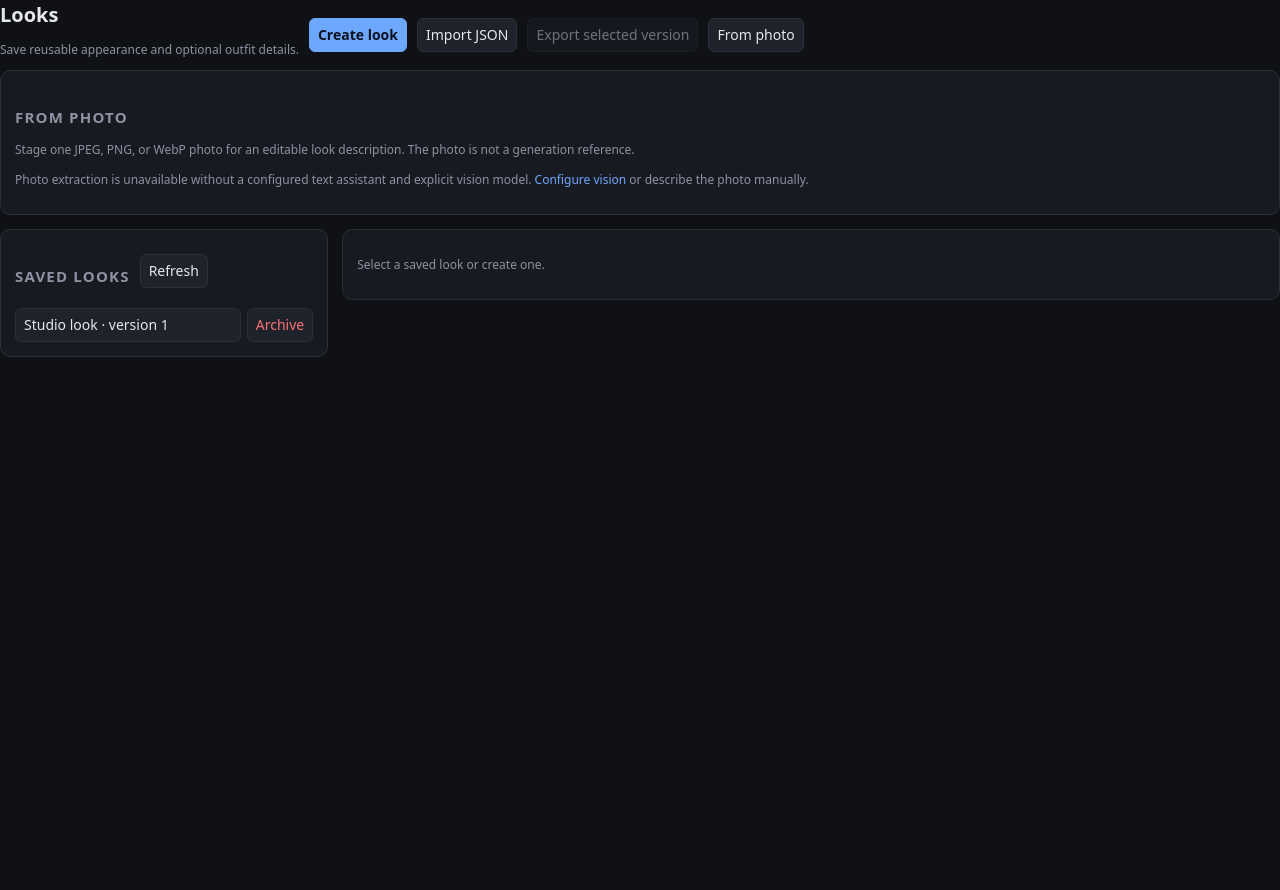
it: Looks manual editor › archives the selected look and ignores a stale list response
Click the button "Studio look · version 1" at (128, 325), box 15,308 -> 241,342
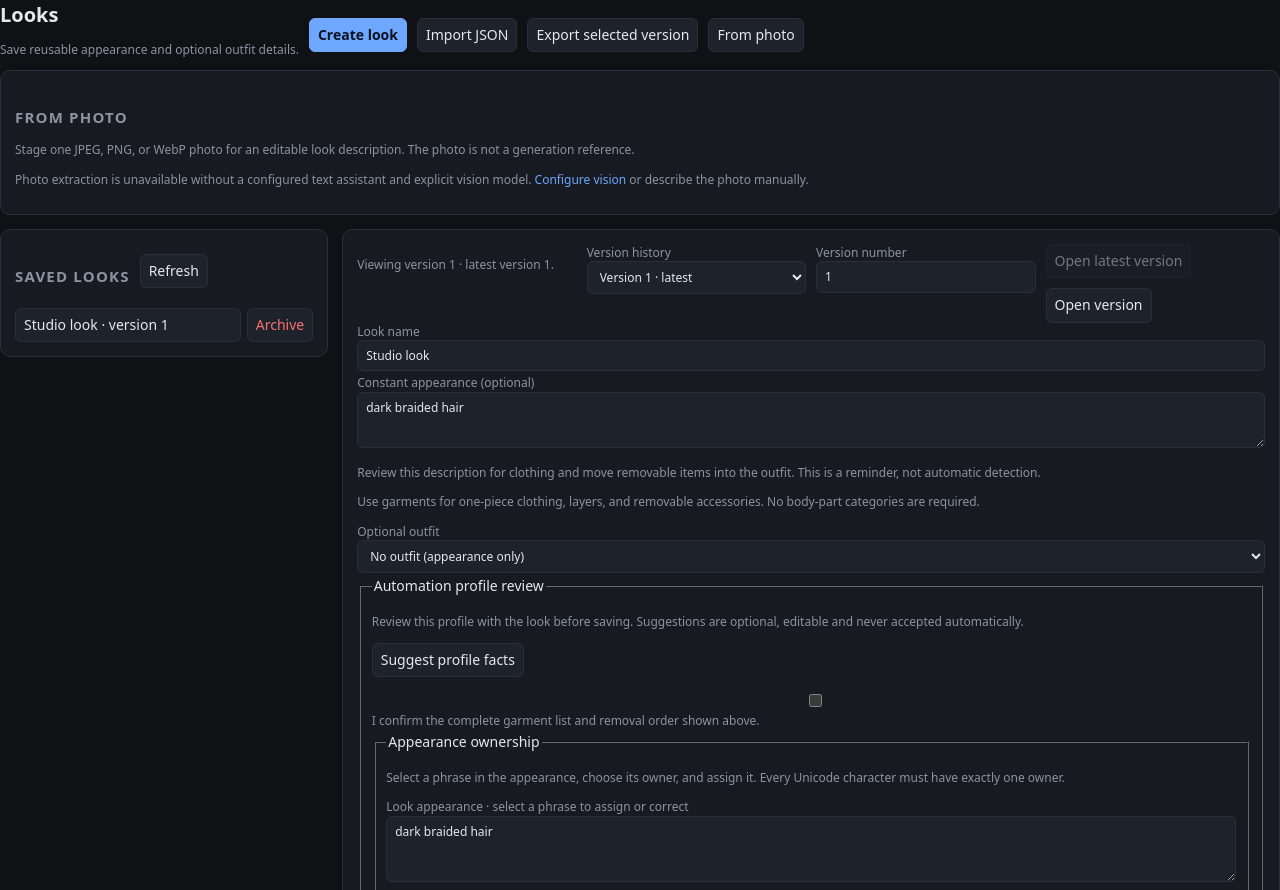
Click the button "Refresh" at (174, 271), box 140,254 -> 208,288
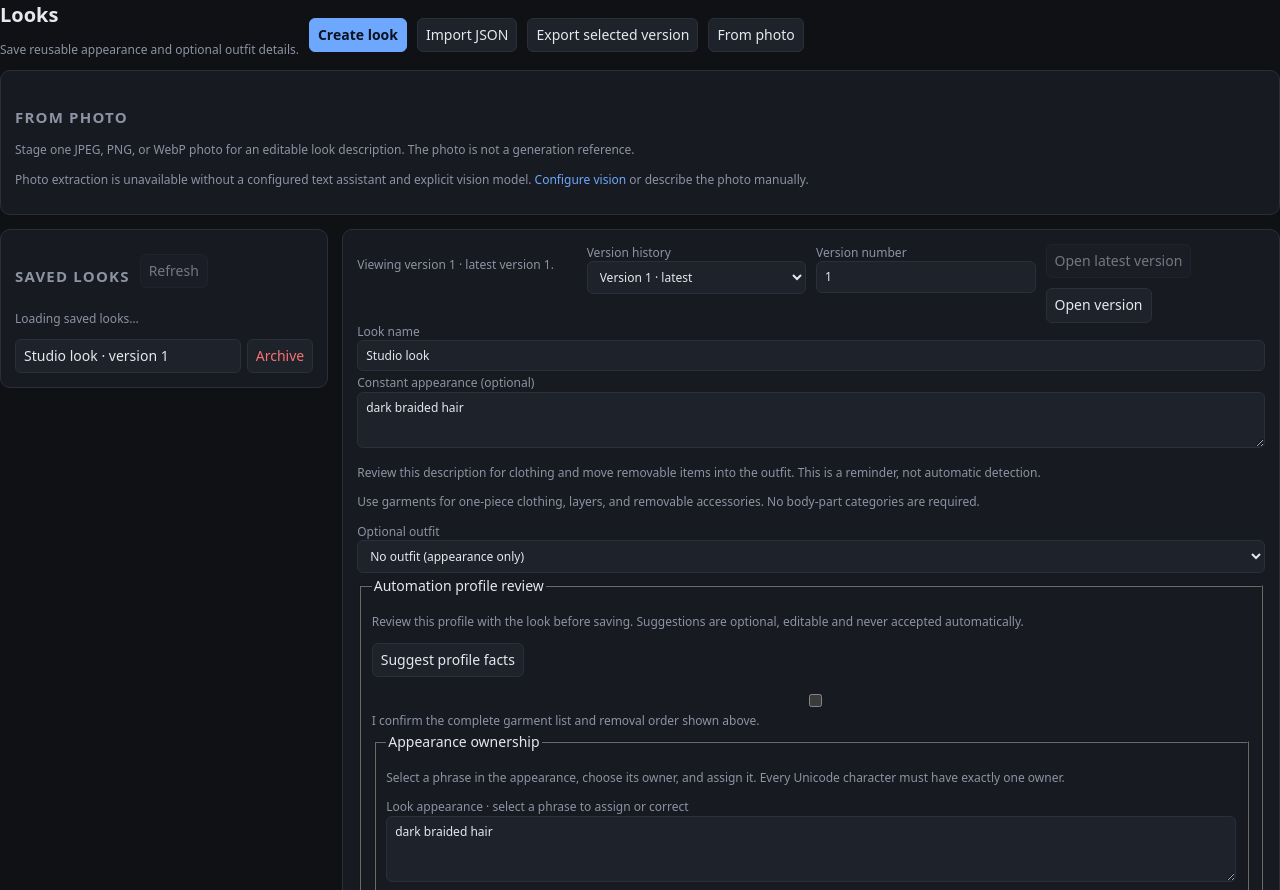
Click the button "Archive" at (280, 356), box 247,339 -> 313,373
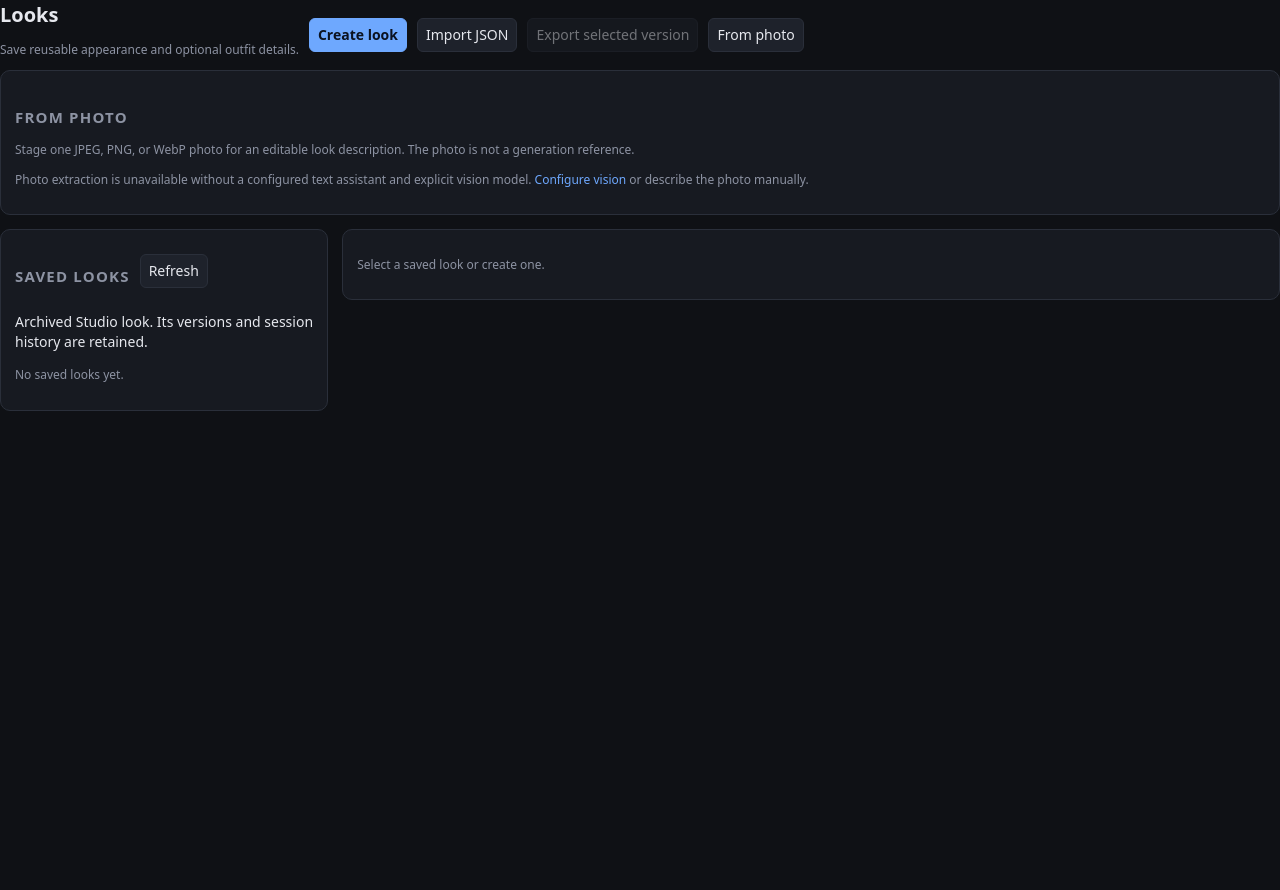
Expected: the text "Archived Studio look. Its versions and session history are retained." is shown, 15,312 -> 313,352
